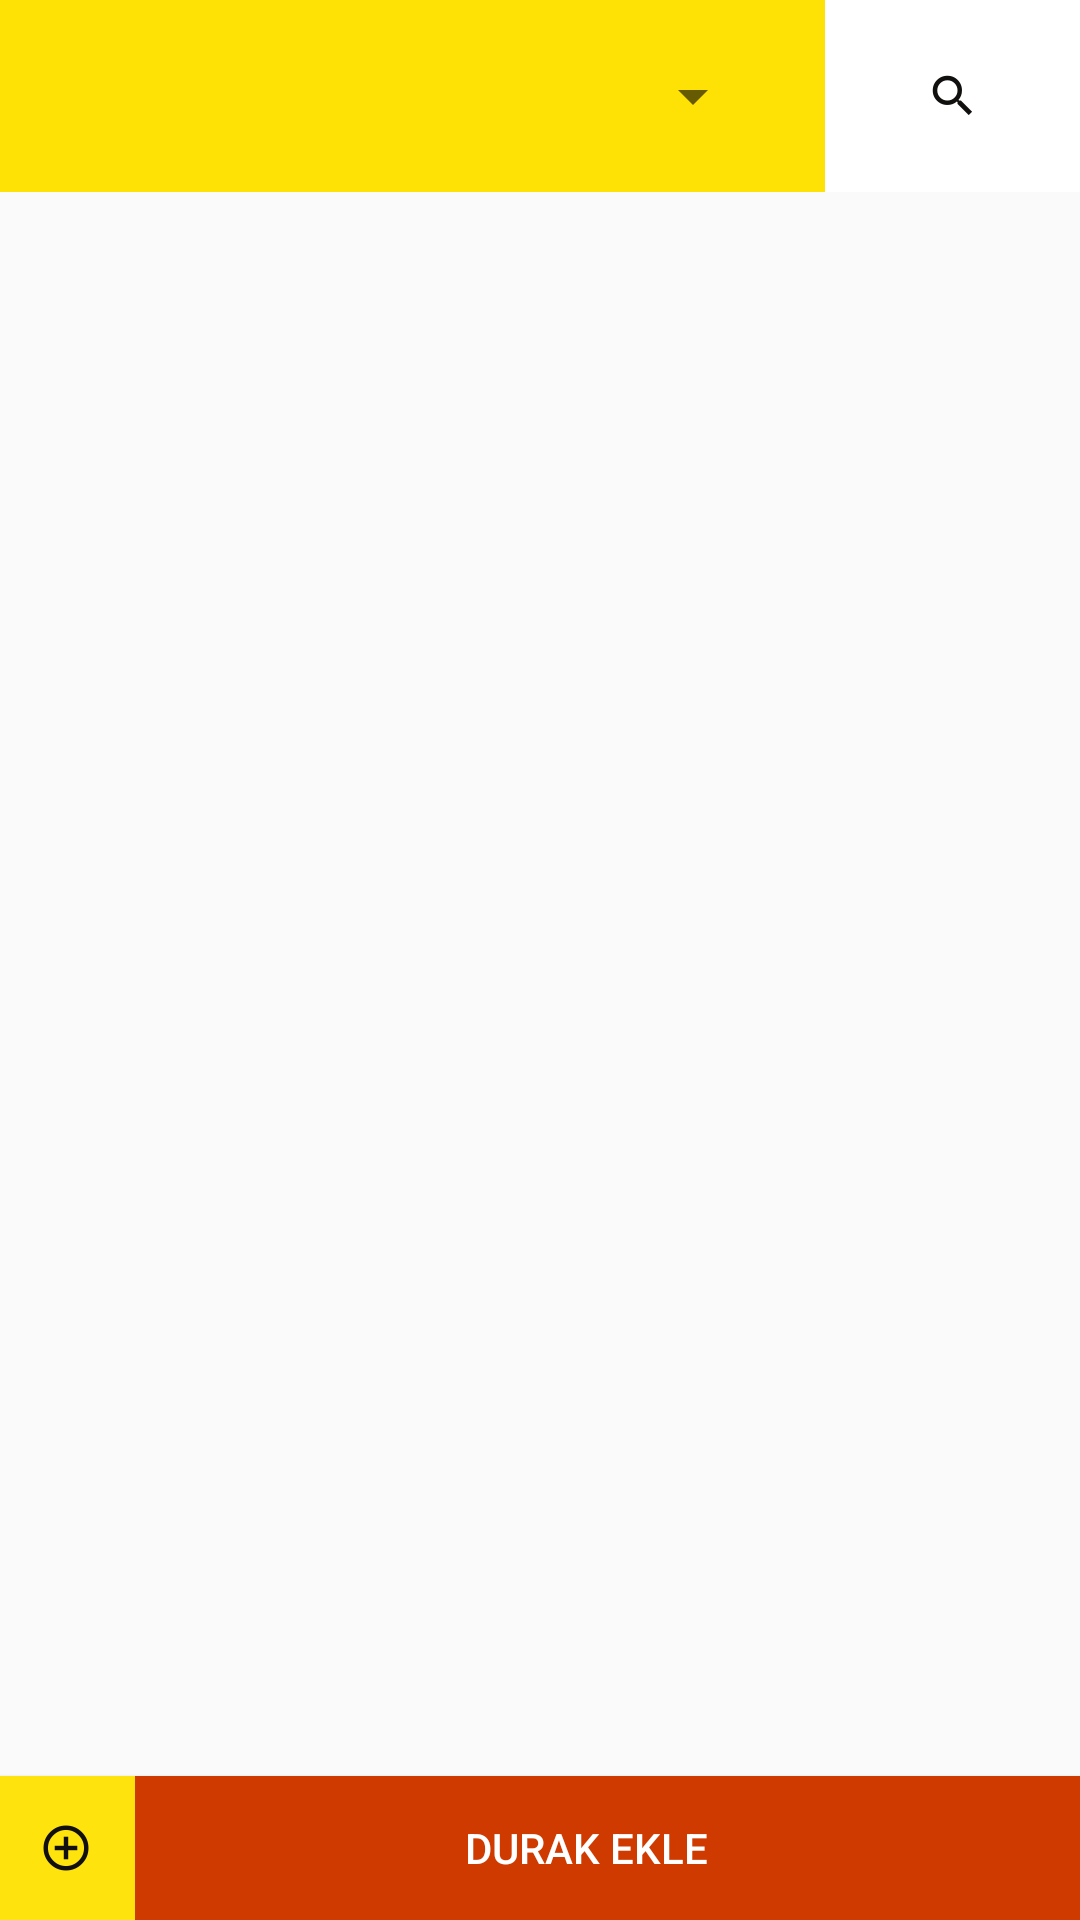

Where icons sit on this 1080×1920 app screen, as [x1,y1,x2,y2]:
search: [932,75,972,115]
